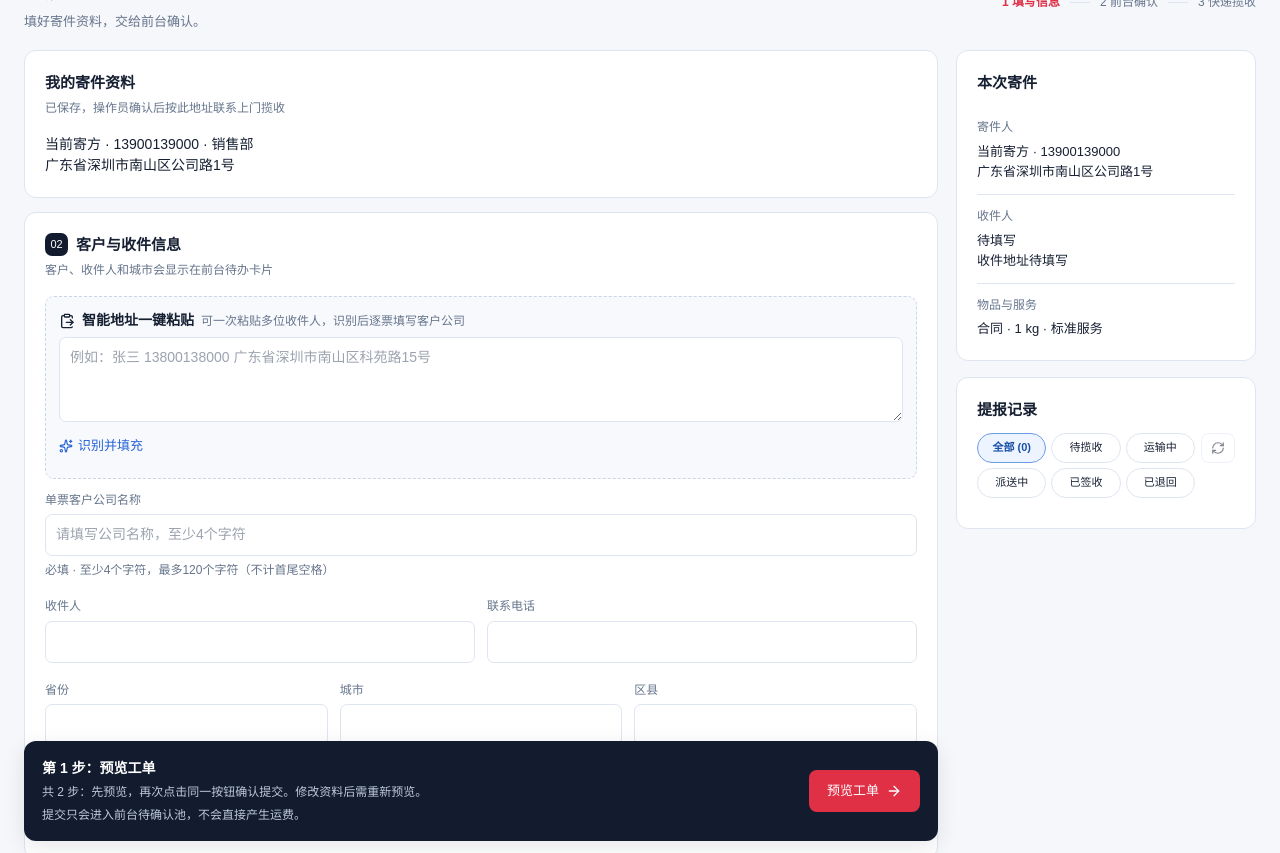
Test case: shows the original in history and the successor under its new submission date
This screenshot has width=1280, height=853.
Click the button "已退回". click: click(1160, 483)
box: [1126,468,1195,498]
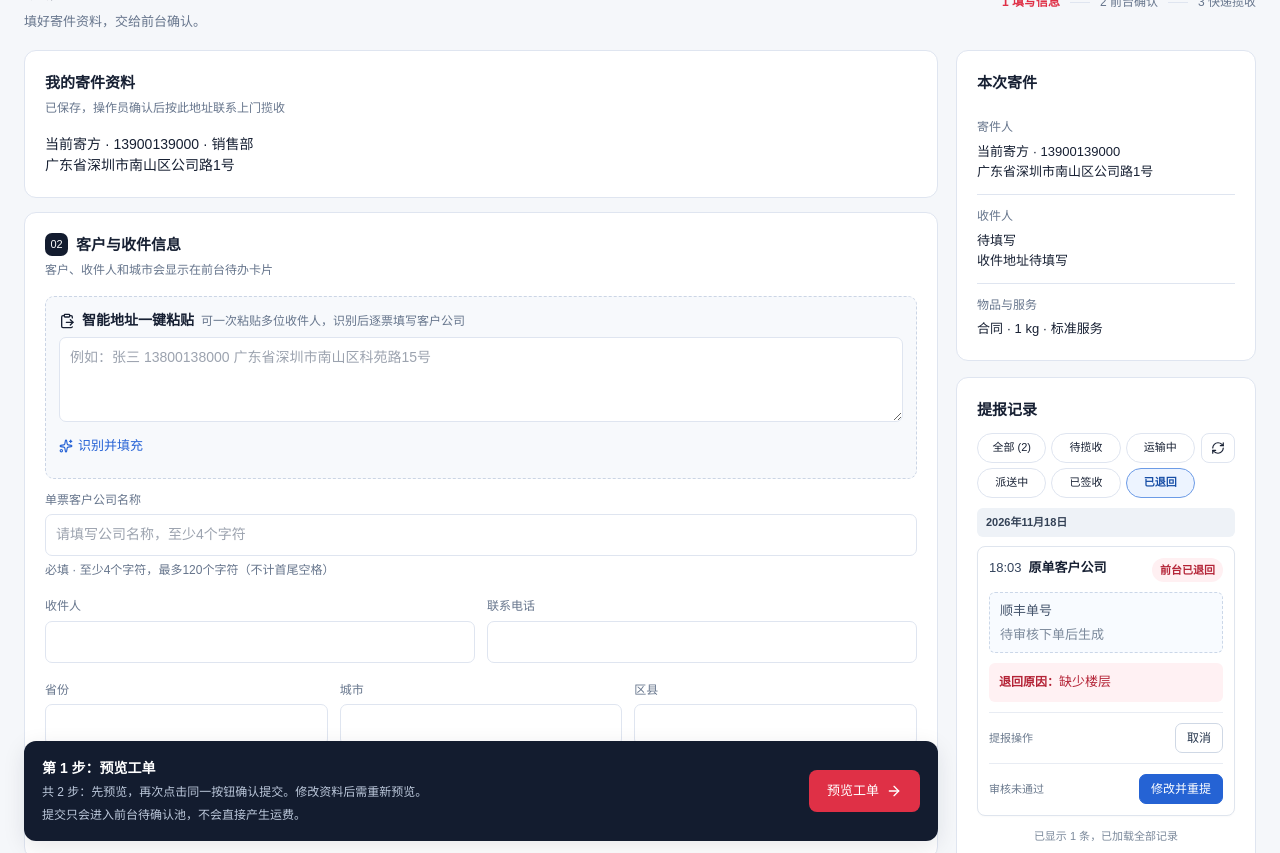
Result: the button named "刷新提报记录" is enabled at [1201,433,1235,463]
Click the button "修改并重提". click: click(1181, 789)
box: [1139,774,1223,804]
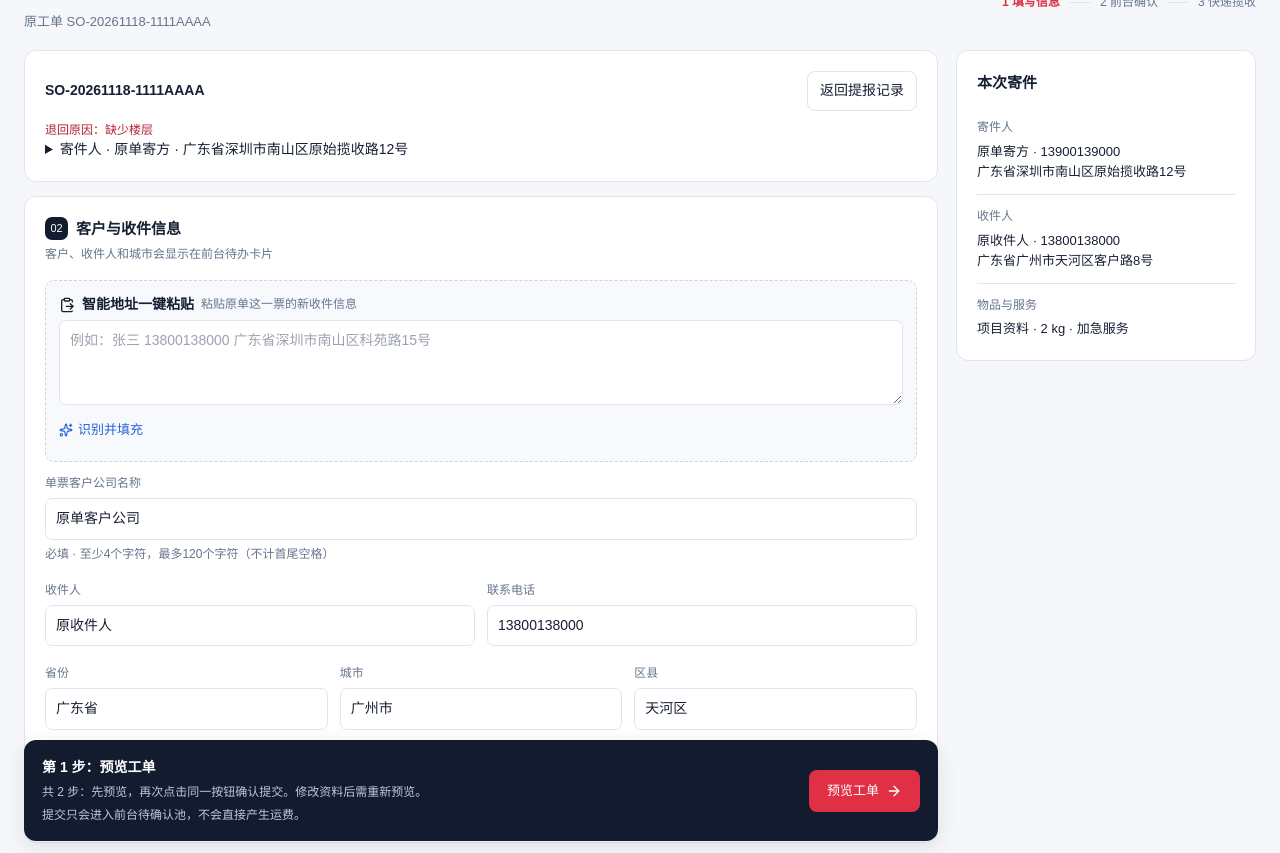
Result: the field labelled "收件人" holds "原收件人" at [45,605,475,646]
Replace the text in the field labelled "单票客户公司名称" with "今日重提客户". click: (481, 519)
box: [45,498,917,540]
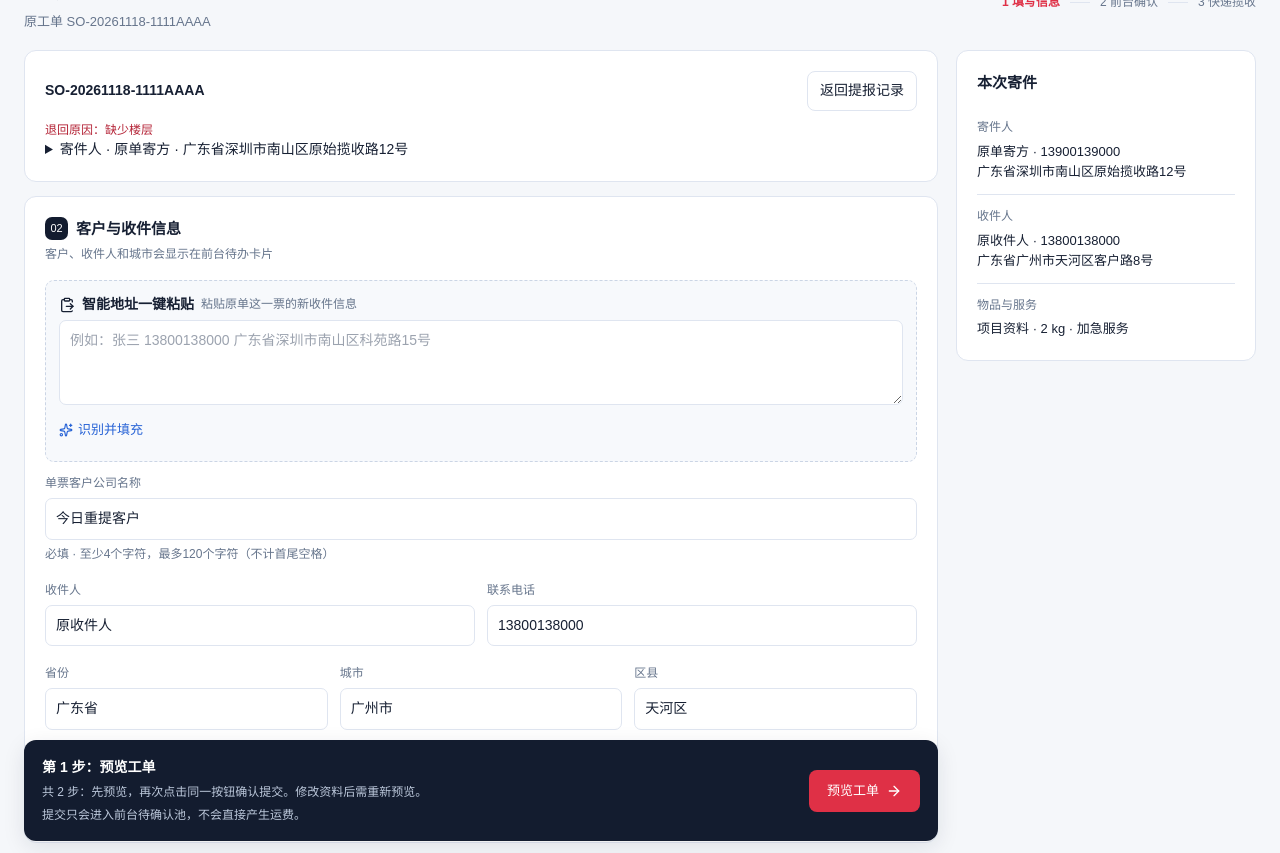
Click the button "预览工单". click: click(864, 791)
box: [809,770,920,812]
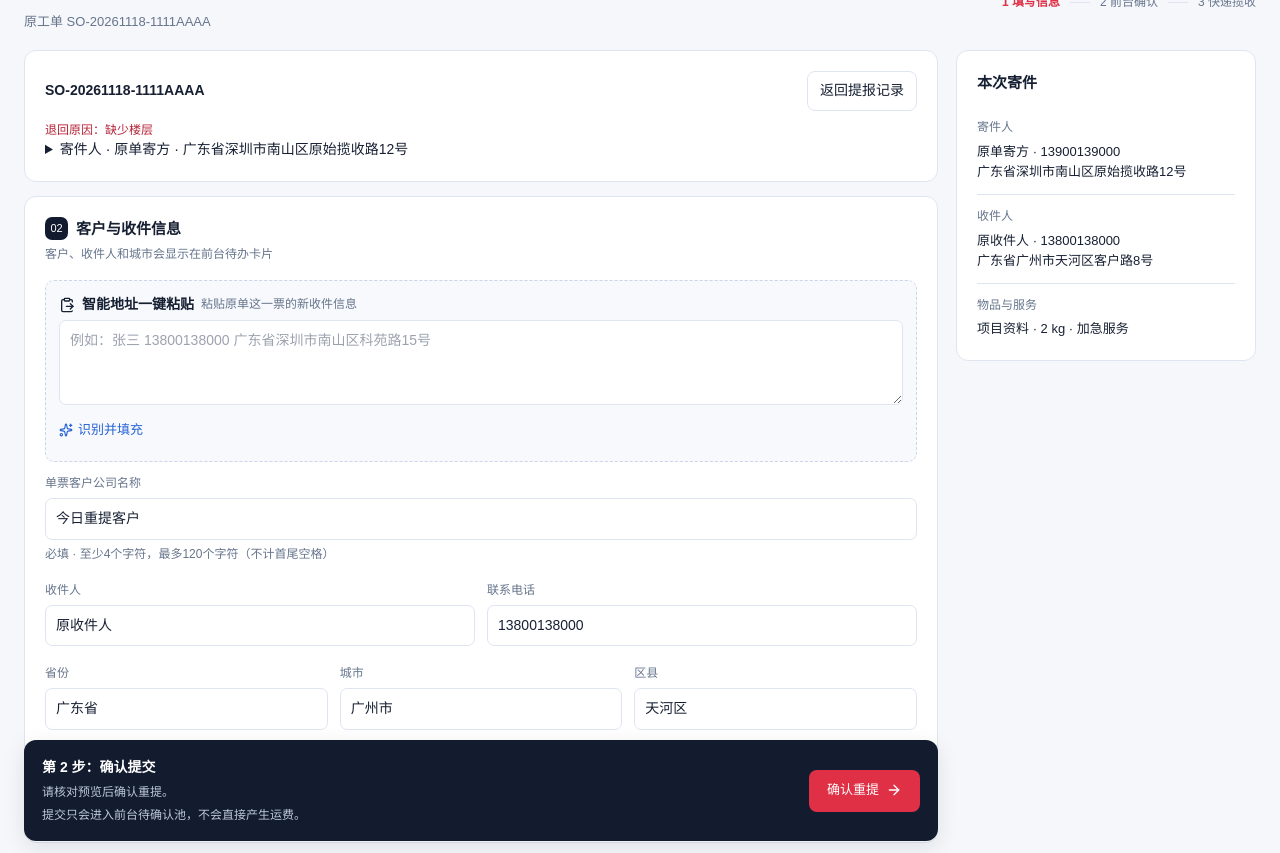
Click the button "确认重提". click: click(864, 791)
box: [809,770,920,812]
(page scrolled)
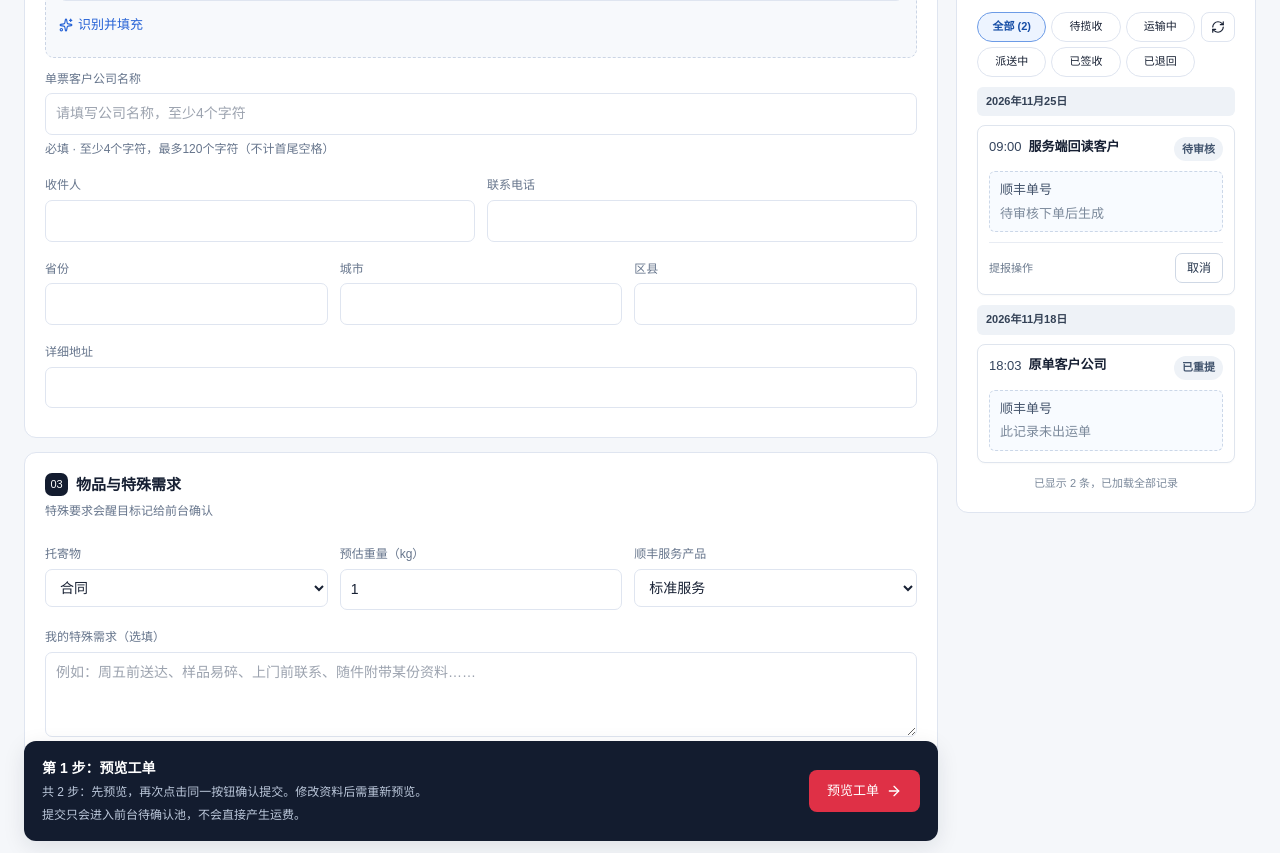
Result: the text "服务端回读客户" is shown at [1028,138,1120,156]
